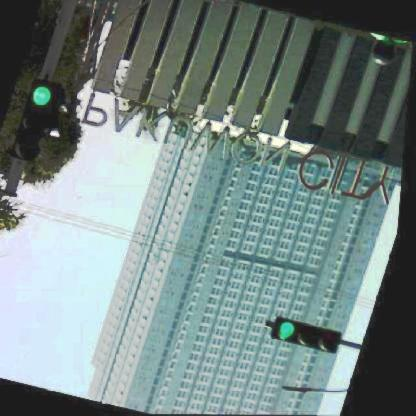Traffic Light -Green-: (12, 77, 64, 166), (276, 316, 351, 352)
